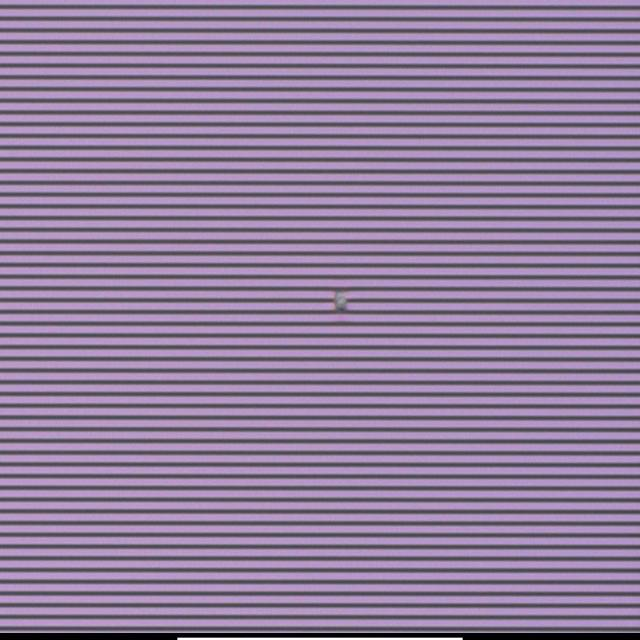03_intrusion: (329, 291, 352, 312)
